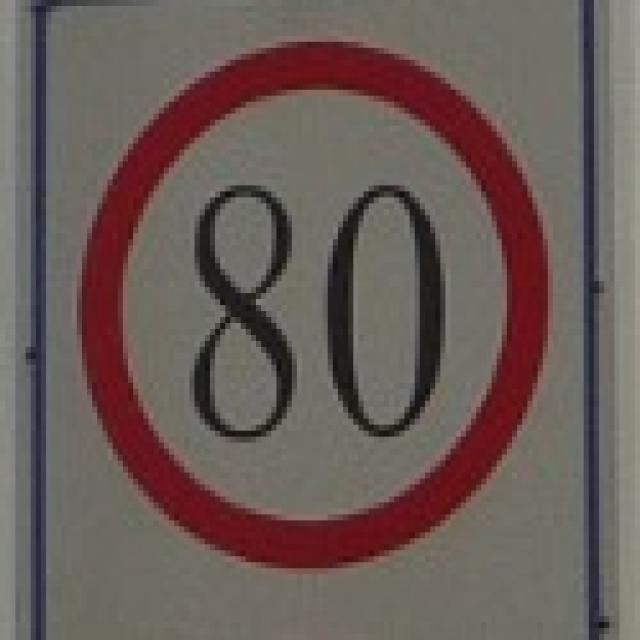Speed Limit -80-: (184, 179, 448, 447)
